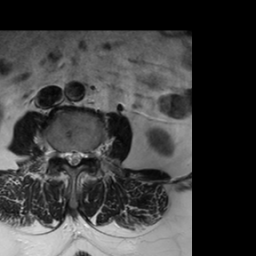CCS_severe_stenosis: (70, 142, 77, 174)
LFS_stenosis: (83, 143, 90, 165)
LLS_normal: (77, 142, 83, 168)
RFS_stenosis: (56, 142, 64, 163)
RLS_stenosis: (64, 144, 70, 171)
